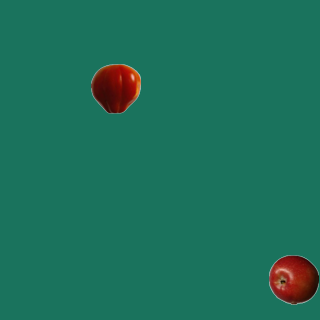Apple Braeburn: (268, 254, 318, 304)
Tomato 1: (90, 63, 140, 113)
